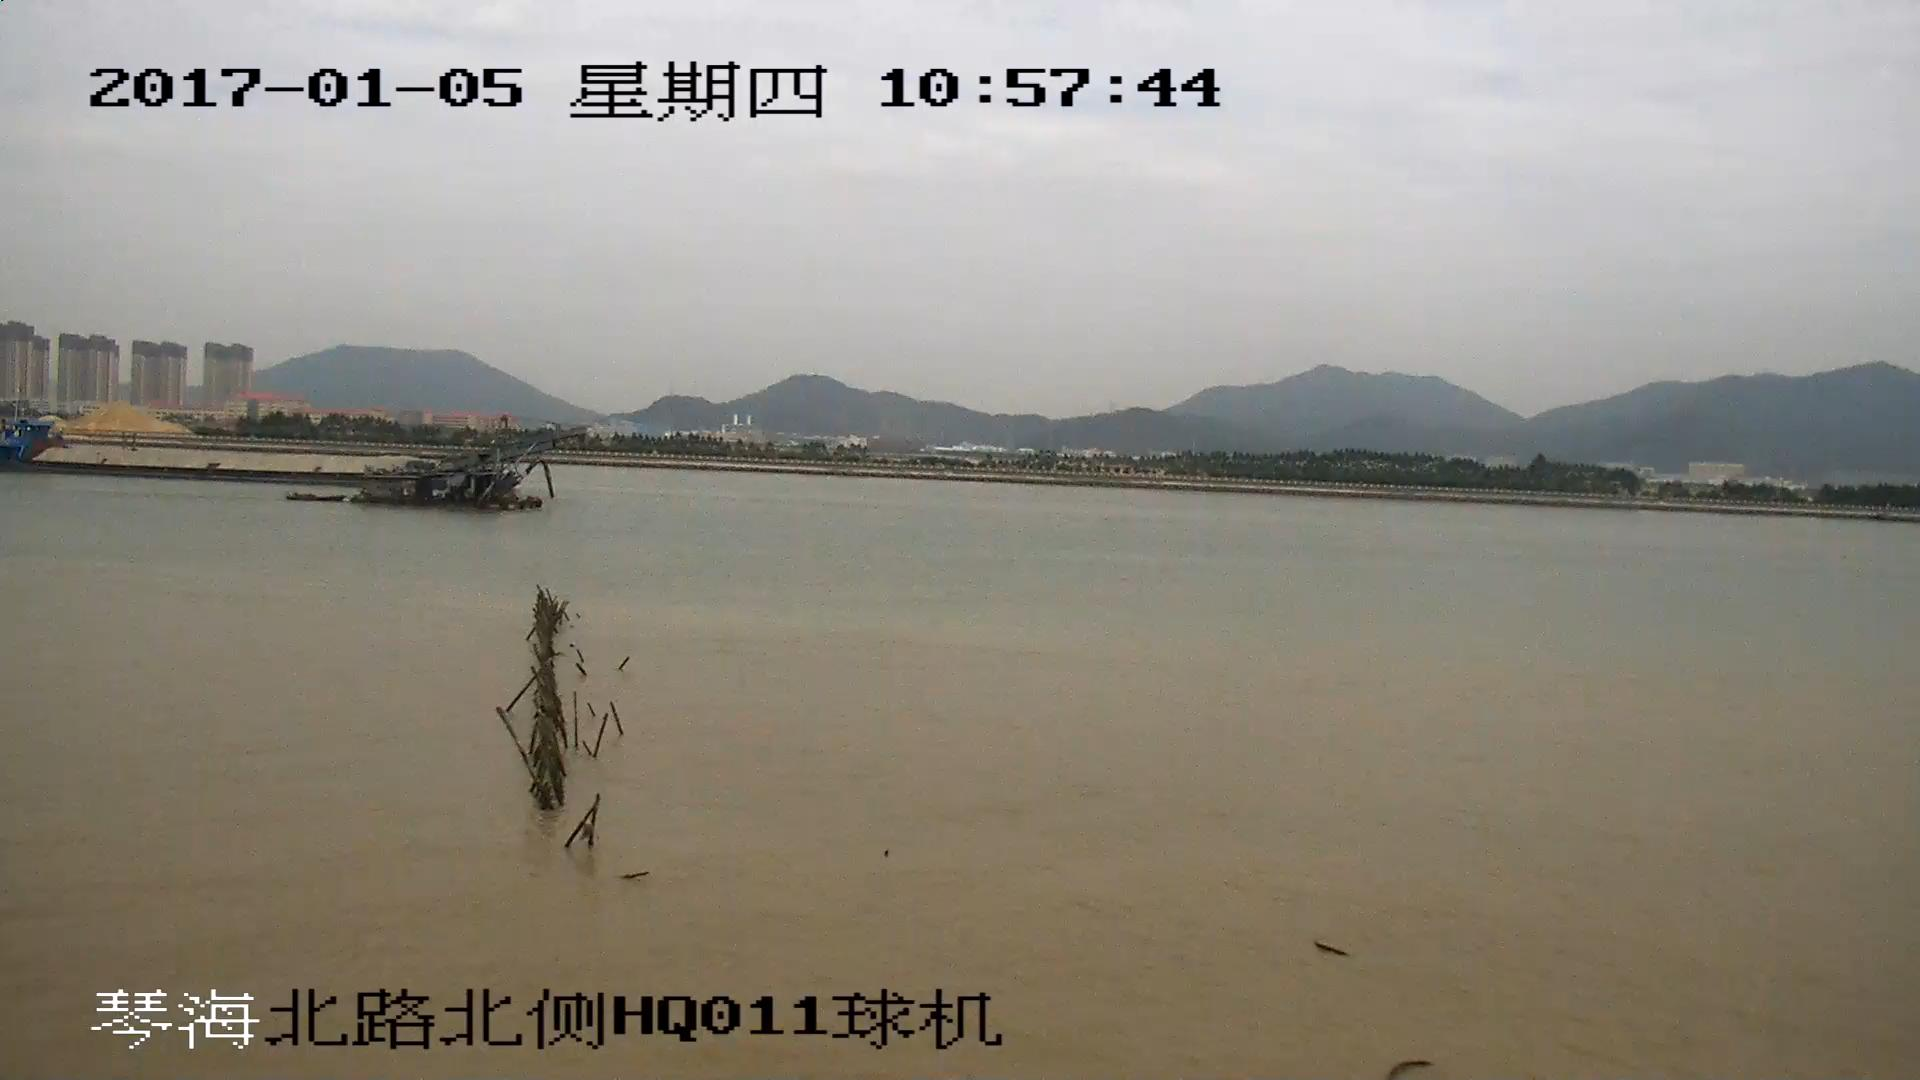ore carrier: (1, 428, 604, 510)
